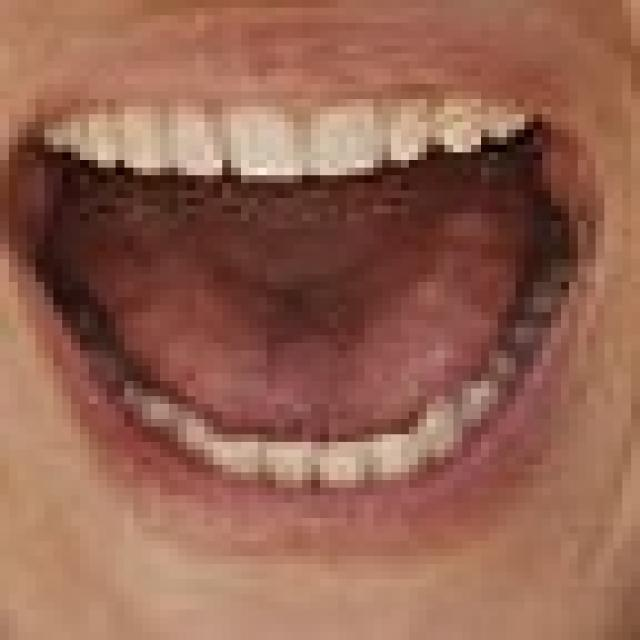open-mouth: (0, 76, 604, 502)
